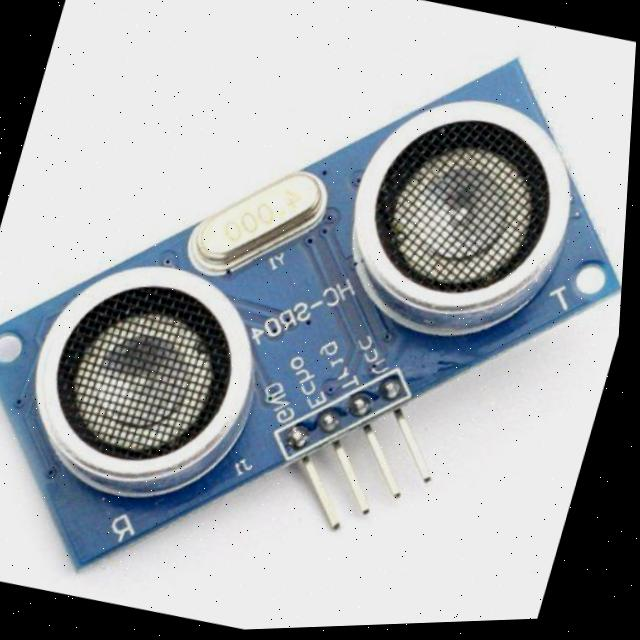Ultrasonic Sensor: (0, 44, 626, 592)
